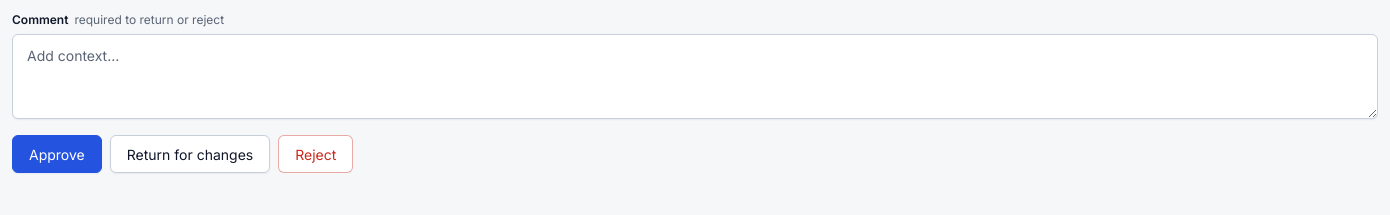
Test: DecisionPanel — the comment rule › clears the error as soon as the user starts typing
Click the button "Reject". click: (316, 154)
box: [278,135,353,173]
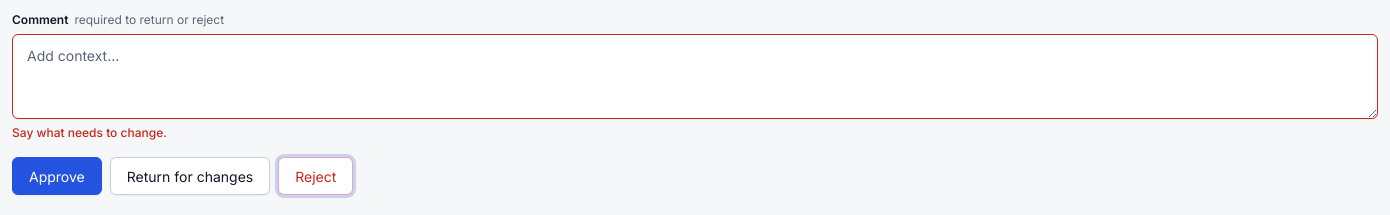
Result: the message "Say what needs to change." is shown at [12,125,167,140]
Type "x" into the text box labelled "Commentrequired to return or reject". click: (695, 76)
box: [12,34,1378,119]
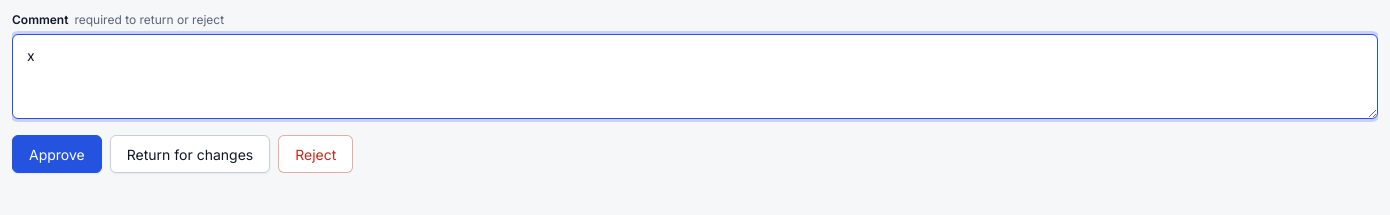
Result: the message "Say what needs to change." is gone
